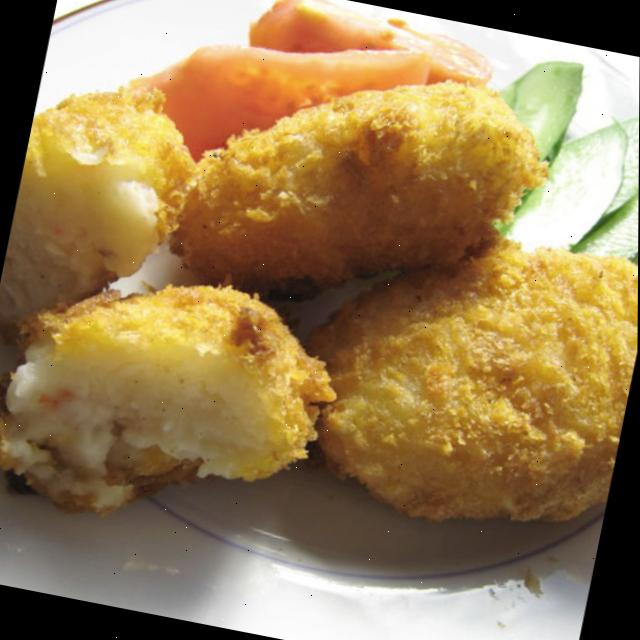炸货点心: (0, 4, 640, 618)
